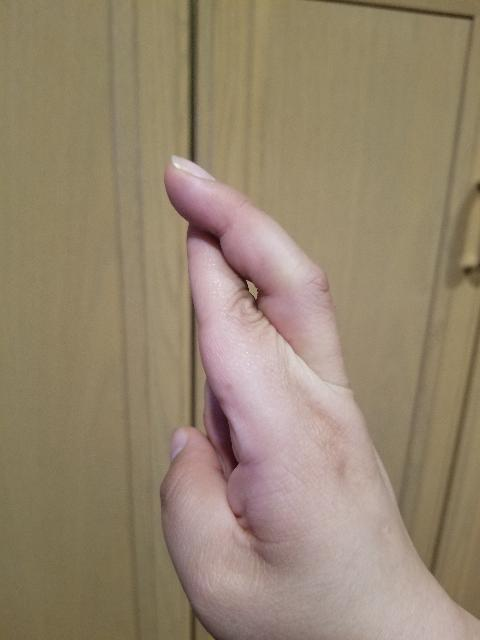R: (153, 148, 445, 640)
